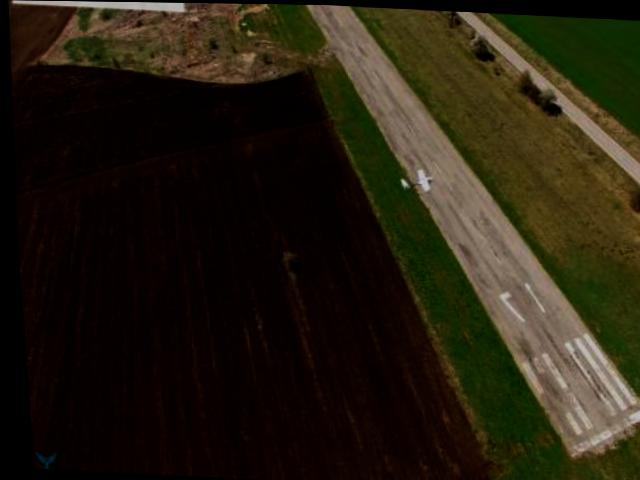uav: (388, 159, 442, 205)
